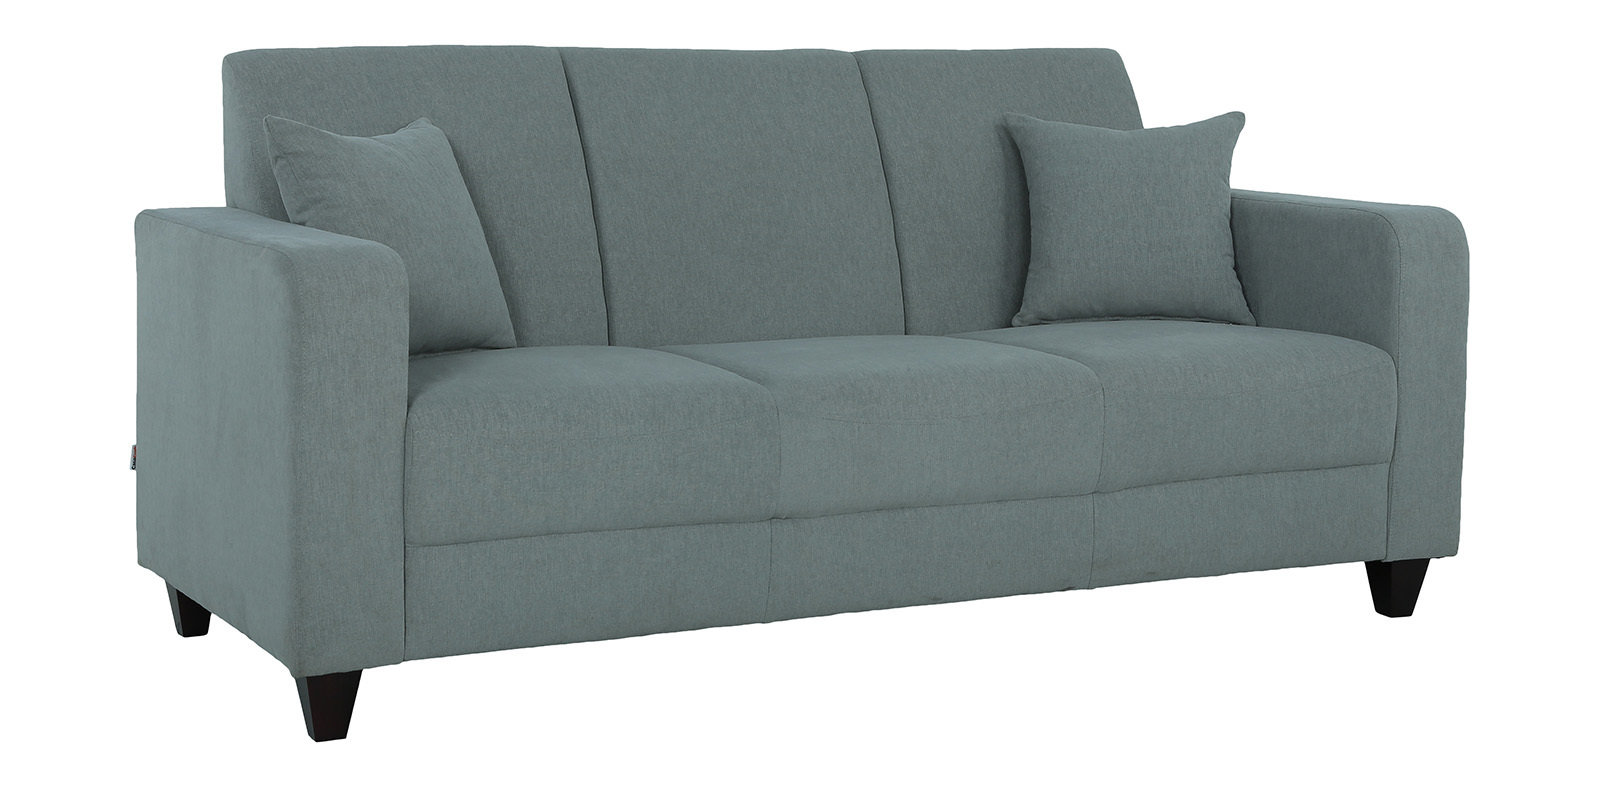Alba Three Seater Sofa in Ash Grey Colour by CasaCraft: (128, 37, 1476, 742)
